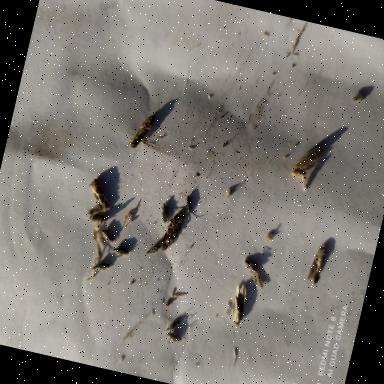pbw: (160, 206, 190, 256), (127, 110, 156, 152), (84, 178, 115, 212), (294, 142, 326, 174), (228, 282, 250, 326), (306, 242, 328, 286), (86, 248, 112, 280), (156, 202, 172, 224), (84, 202, 103, 220), (111, 244, 130, 258), (182, 195, 194, 214), (145, 242, 160, 257), (100, 229, 116, 242), (164, 330, 180, 343), (90, 213, 108, 224), (166, 318, 180, 332)
